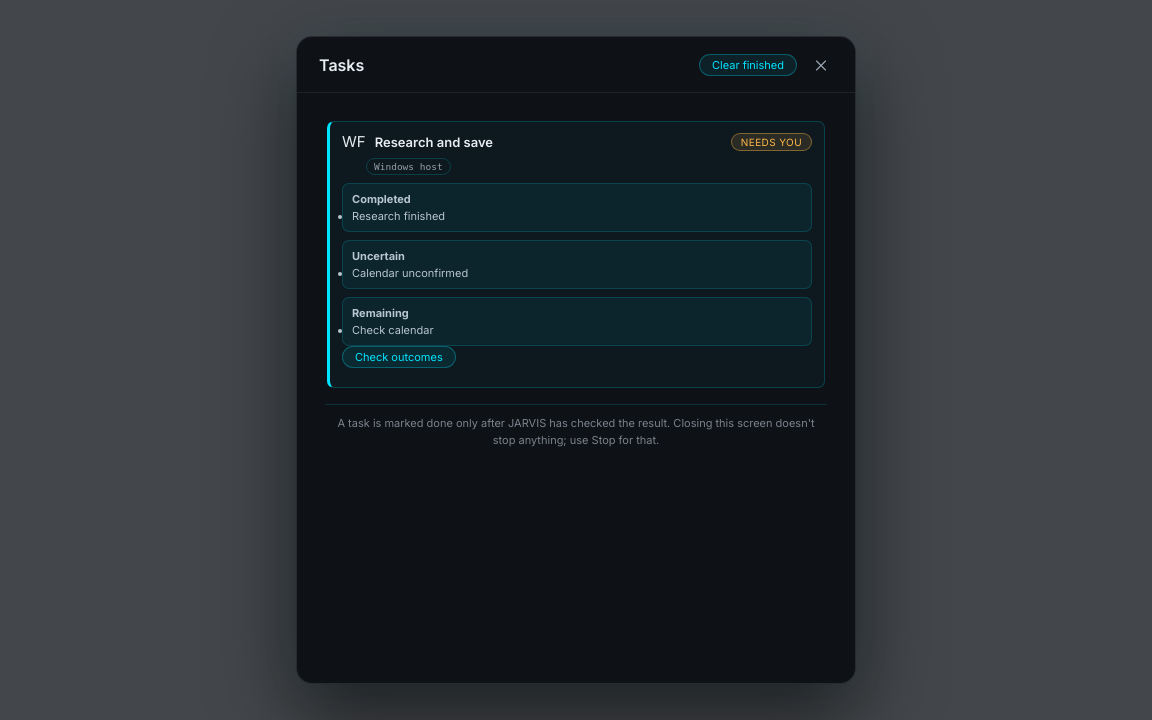
Scenario: displays changed-state failures and removes the consumed continuation ticket
This screenshot has width=1152, height=720.
Click the button "Check outcomes" at (399, 357), box left=342, top=346, right=456, bottom=368
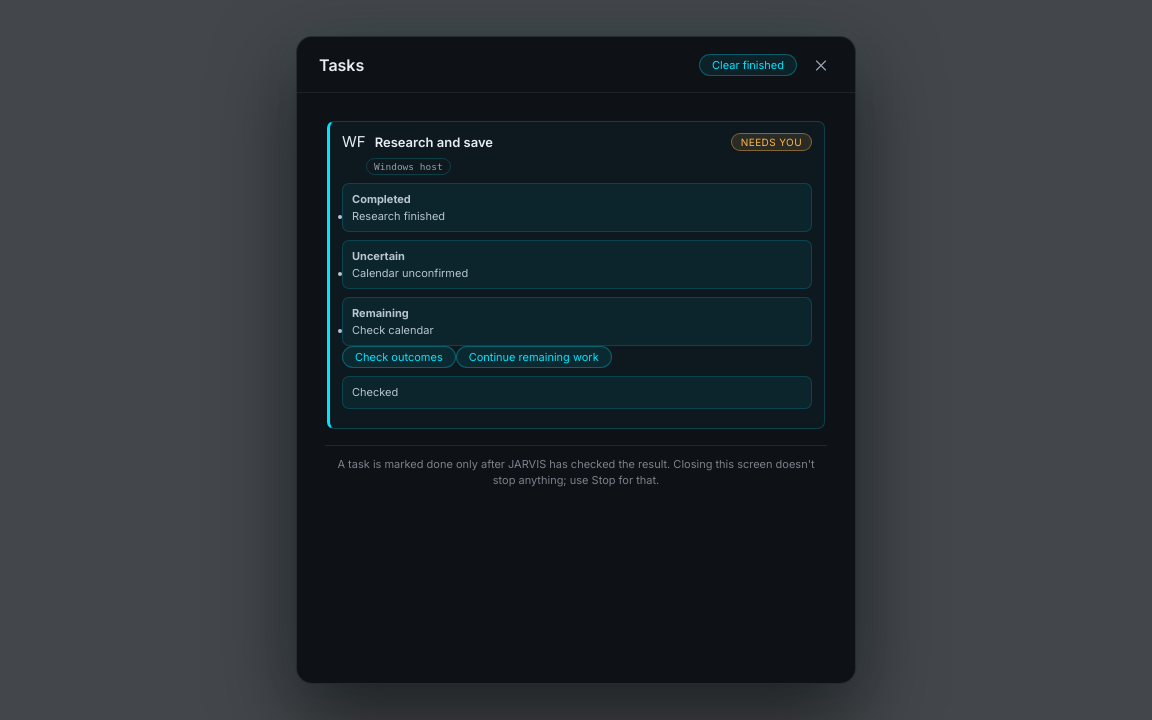
Click the button "Continue remaining work" at (534, 357), box left=456, top=346, right=612, bottom=368
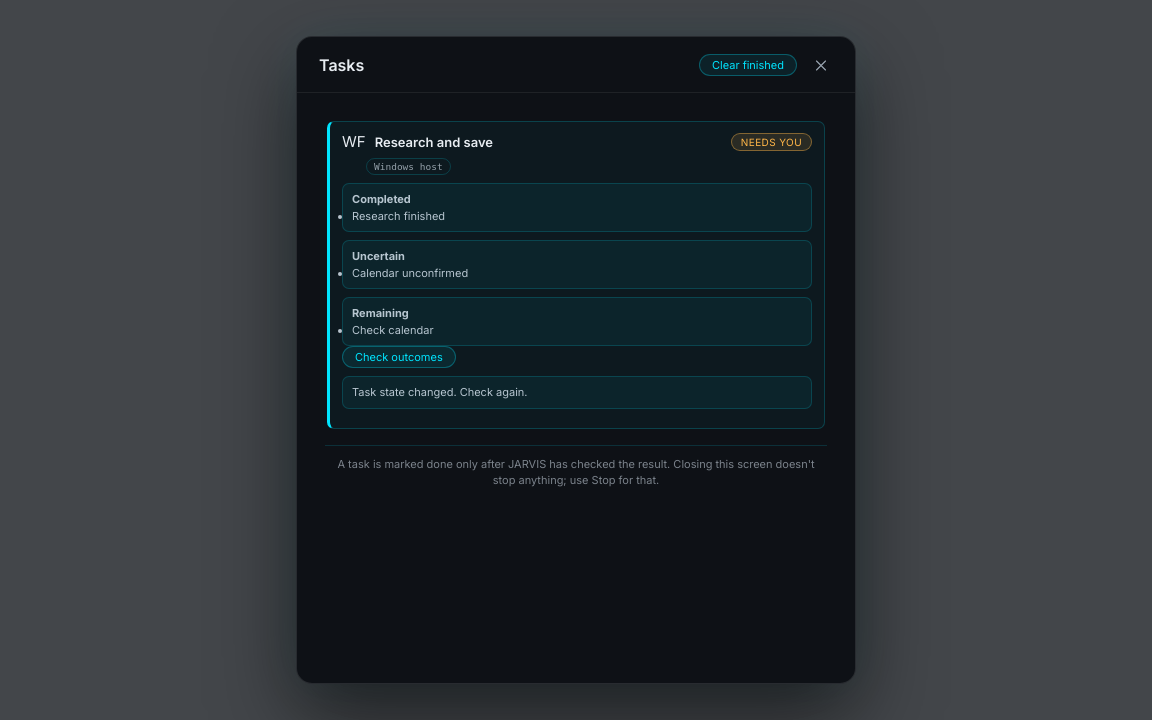
Expected: the text "Task state changed" is shown, left=352, top=385, right=528, bottom=399
